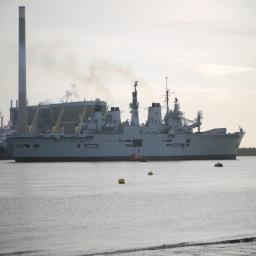Portanaves: (6, 73, 249, 165)
